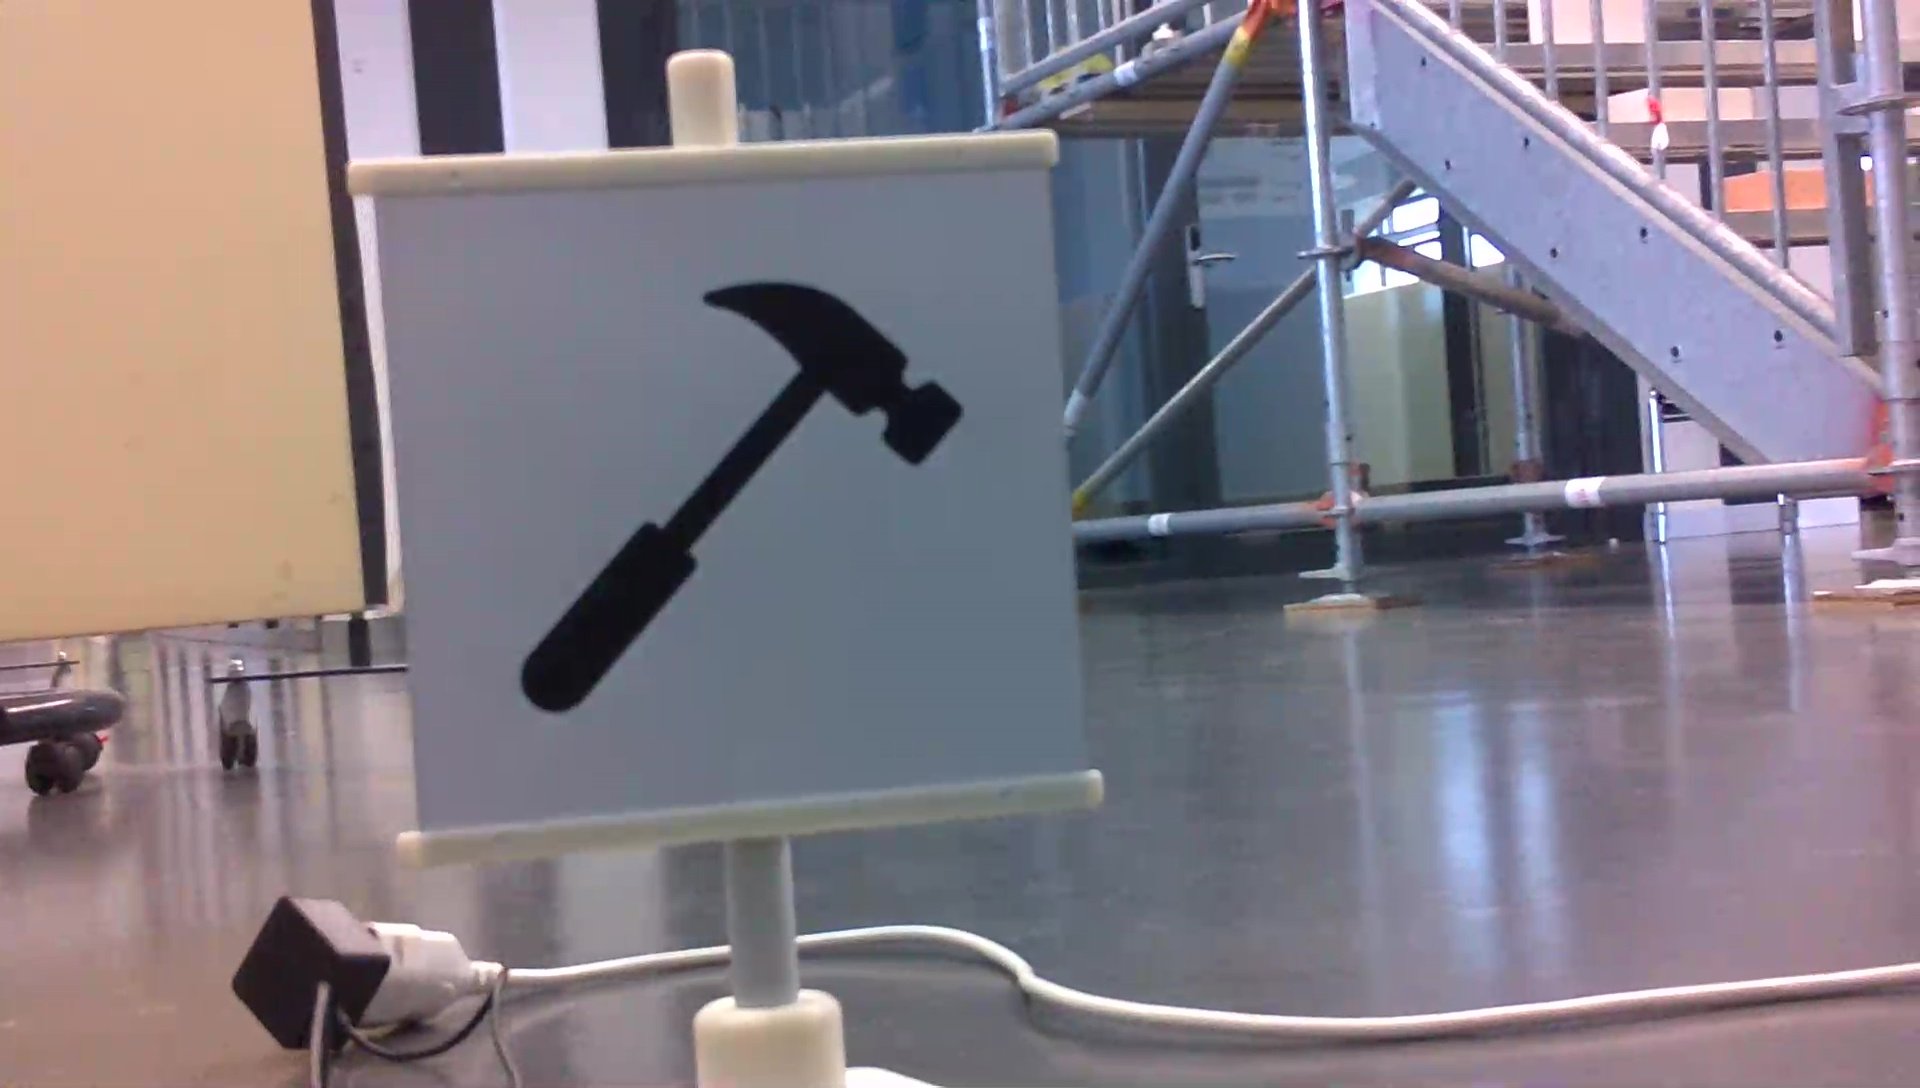hammer: (512, 268, 976, 717)
